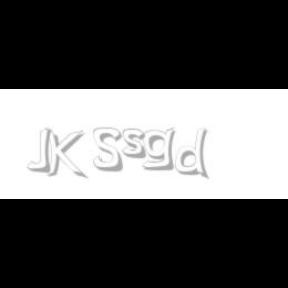J: (26, 128, 51, 172)
K: (44, 128, 84, 180)
S: (94, 128, 124, 172)
d: (176, 128, 213, 180)
g: (142, 128, 180, 171)
s: (122, 128, 150, 160)
